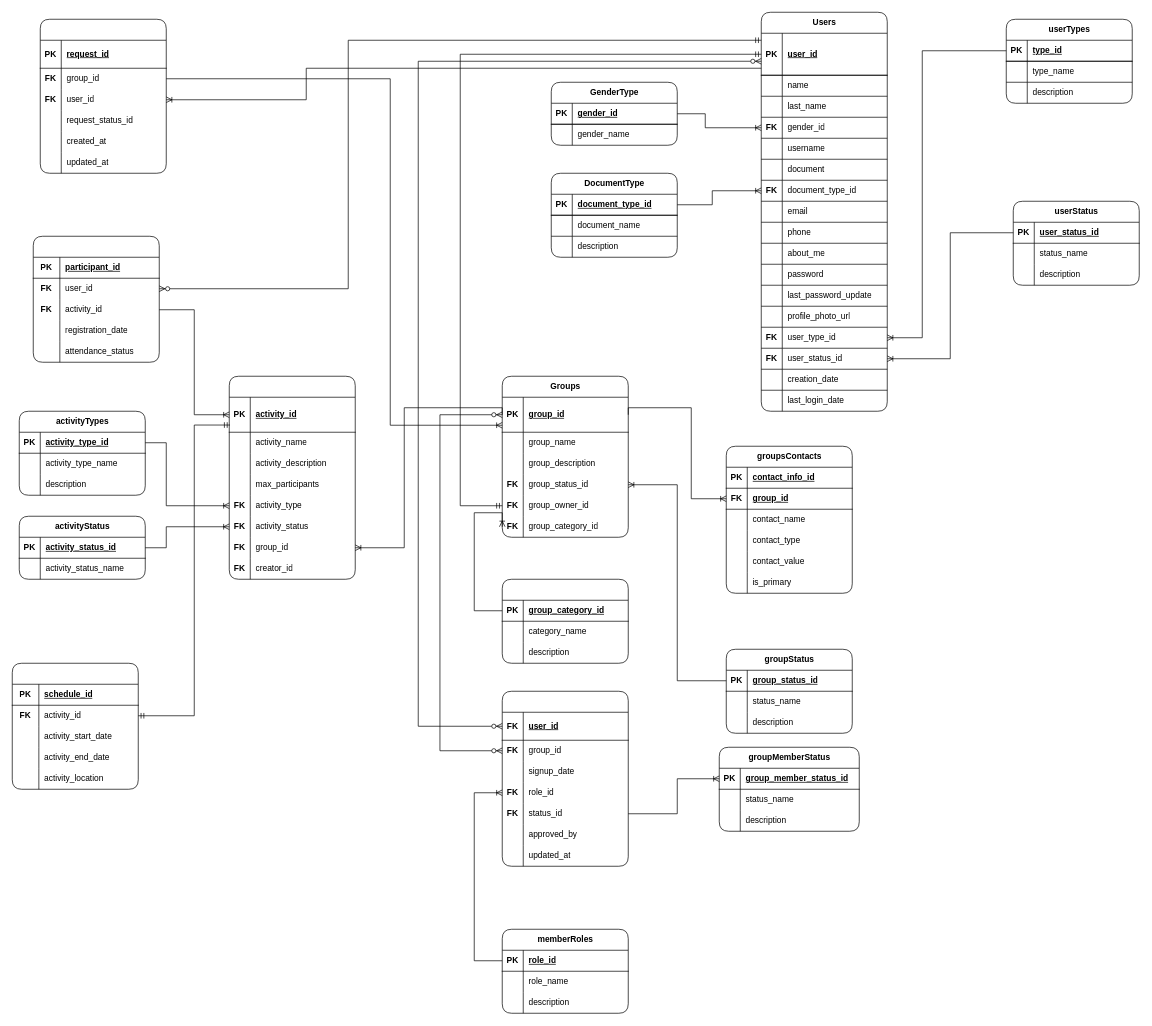
This 1152x1026 diagram has some shape labels left out. Each missing label, with the box of its shape:
activitiesSchedule: (12, 663, 138, 789)
activityParticipants: (33, 236, 159, 362)
groupActivities: (229, 376, 355, 579)
groupCategories: (502, 579, 628, 663)
groupJoinRequests: (40, 19, 166, 173)
groupMembers: (502, 691, 628, 866)
